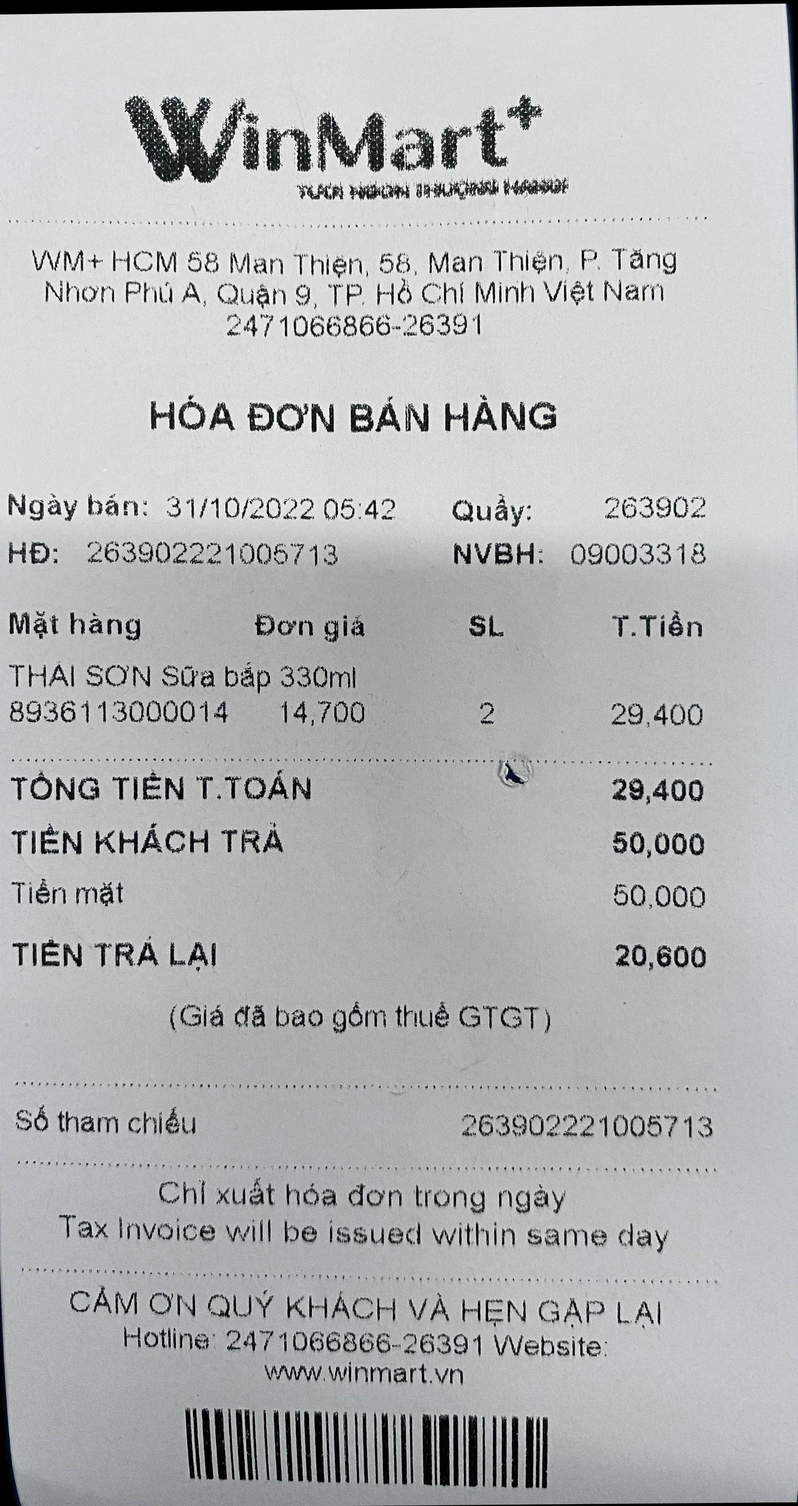Date: (163, 481, 318, 529)
Store_Name: (98, 78, 604, 218)
Total_Amount: (0, 754, 742, 825)
